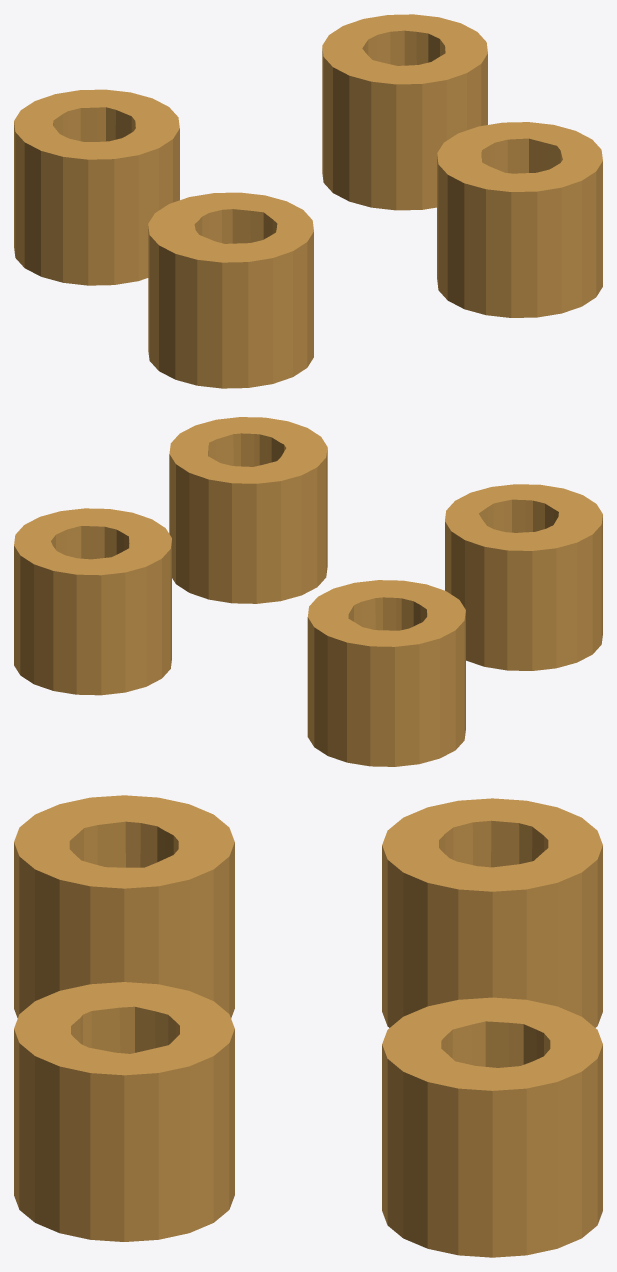
The model's file is duckpad_v2_lock.glb.
3 renders of one model, top to bottom at view 1: azimuth 30°, elevation 25°; view 2: azimuth 150°, elevation 25°; view 3: azimuth 270°, elevation 25°, orthographic. The views are drawn at different scales.
Parts seen in each view (by area): view 1: Mesh_Mesh_head_geo.001_lambert2SG.001; view 2: Mesh_Mesh_head_geo.001_lambert2SG.001; view 3: Mesh_Mesh_head_geo.001_lambert2SG.001.
Part boxes in pixels (x1,y1,x2,y2): Mesh_Mesh_head_geo.001_lambert2SG.001: (14,14,602,388); Mesh_Mesh_head_geo.001_lambert2SG.001: (14,417,602,766); Mesh_Mesh_head_geo.001_lambert2SG.001: (14,795,602,1257).
Bounding box in the file's own units: 19 × 5 × 16.
